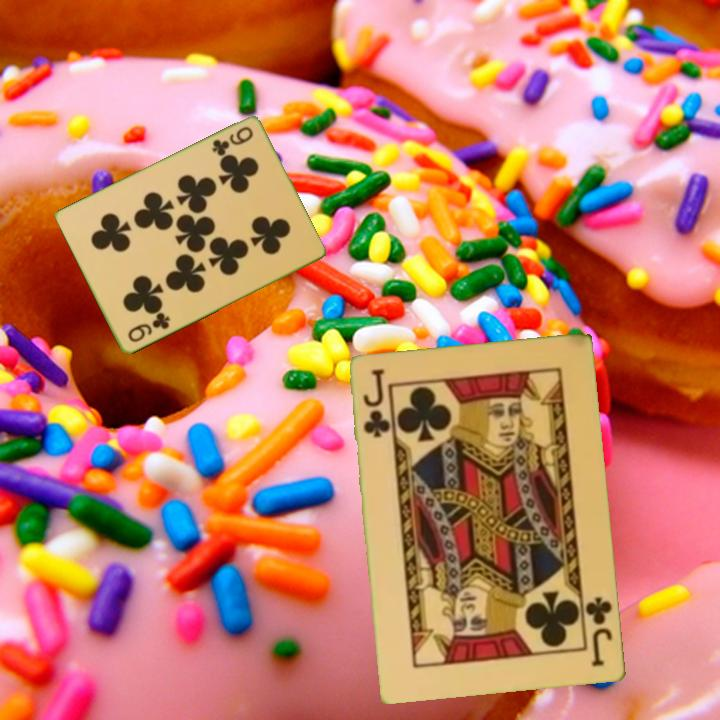9c: (124, 310, 173, 346), (208, 123, 256, 159)
Jc: (582, 593, 616, 670), (360, 366, 392, 441)
